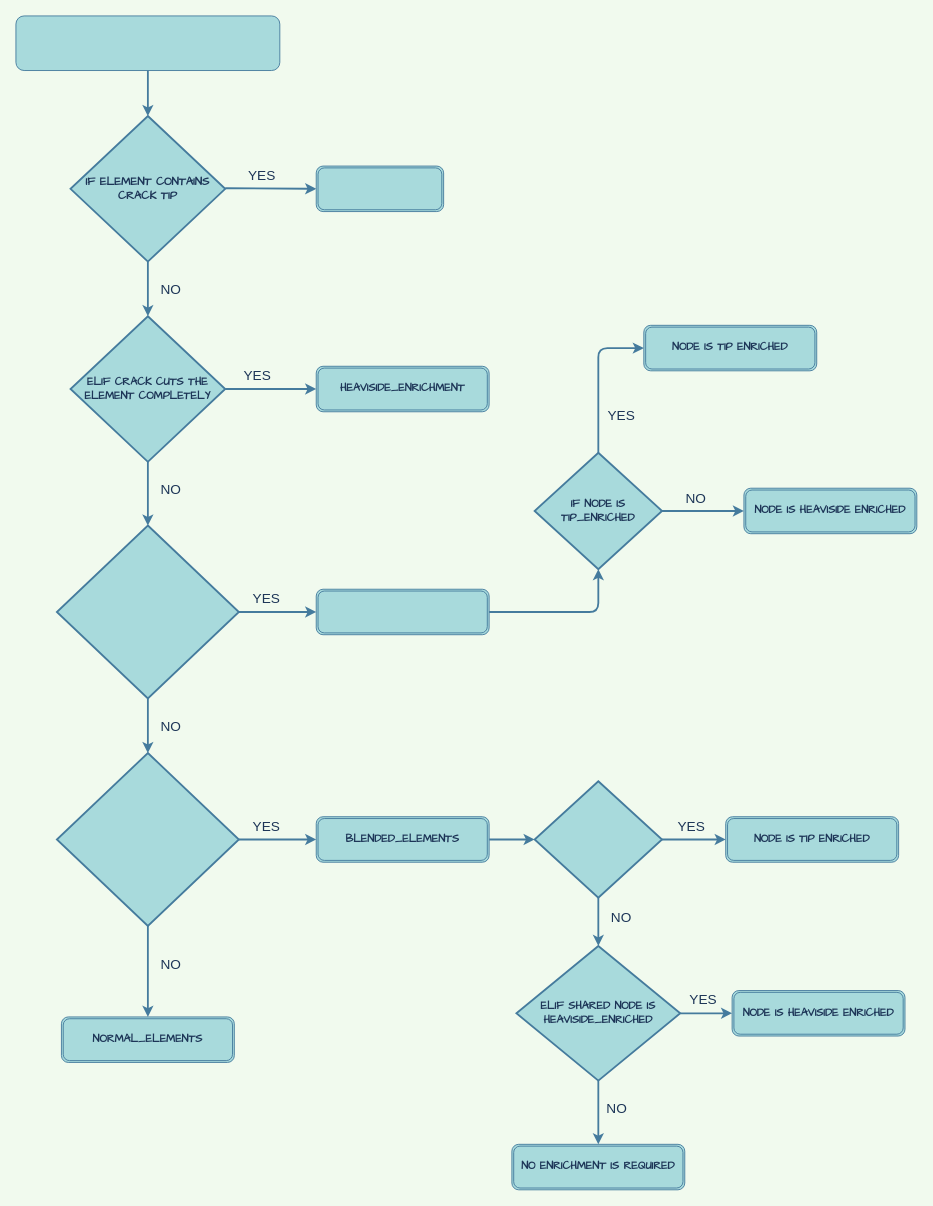
The diagram is 933 pixels wide and 1206 high, and some of its shapes have lost their labels. The box of each missing label's shape, as (x1, y1, x2, y2) in pixels:
ELIF ELEMENT IS EXACTLY BEHIND THE CRACK ELEMENT: (56, 524, 239, 699)
ELIF ELEMENT SHARE NODE WITH ENRICHED ELEMENT: (56, 752, 239, 926)
IF SHARED NODE IS TIP_ENRICHED: (533, 780, 662, 898)
INPUTS: SAMPLE PARAMETERS, CRACK LENGTH: (15, 15, 280, 71)
PRETIP_ENRICHMENT: (315, 588, 489, 635)
TIP_ENRICHMENT: (315, 165, 444, 212)
